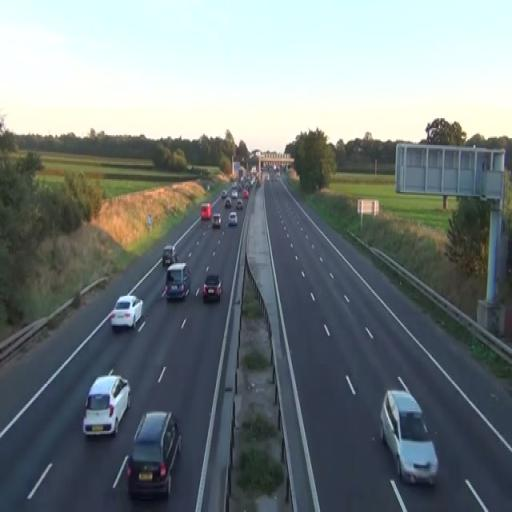Car: (380, 389, 438, 487), (126, 410, 182, 500), (82, 374, 132, 440), (110, 294, 143, 332), (164, 262, 191, 302), (202, 274, 223, 304), (162, 245, 176, 268), (228, 211, 238, 227), (212, 213, 222, 229)
